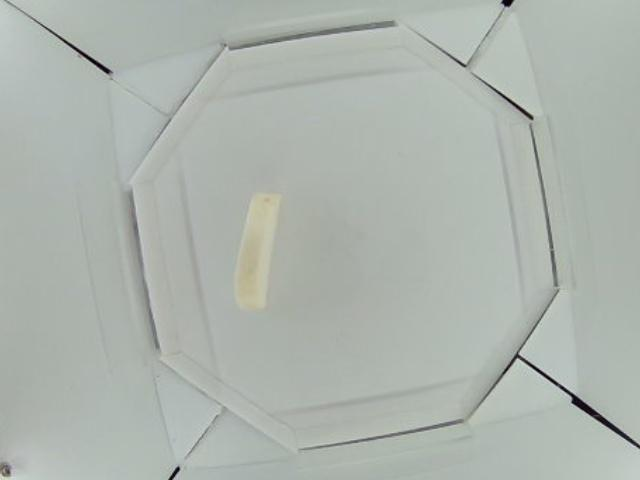Mooli: (232, 193, 279, 309)
